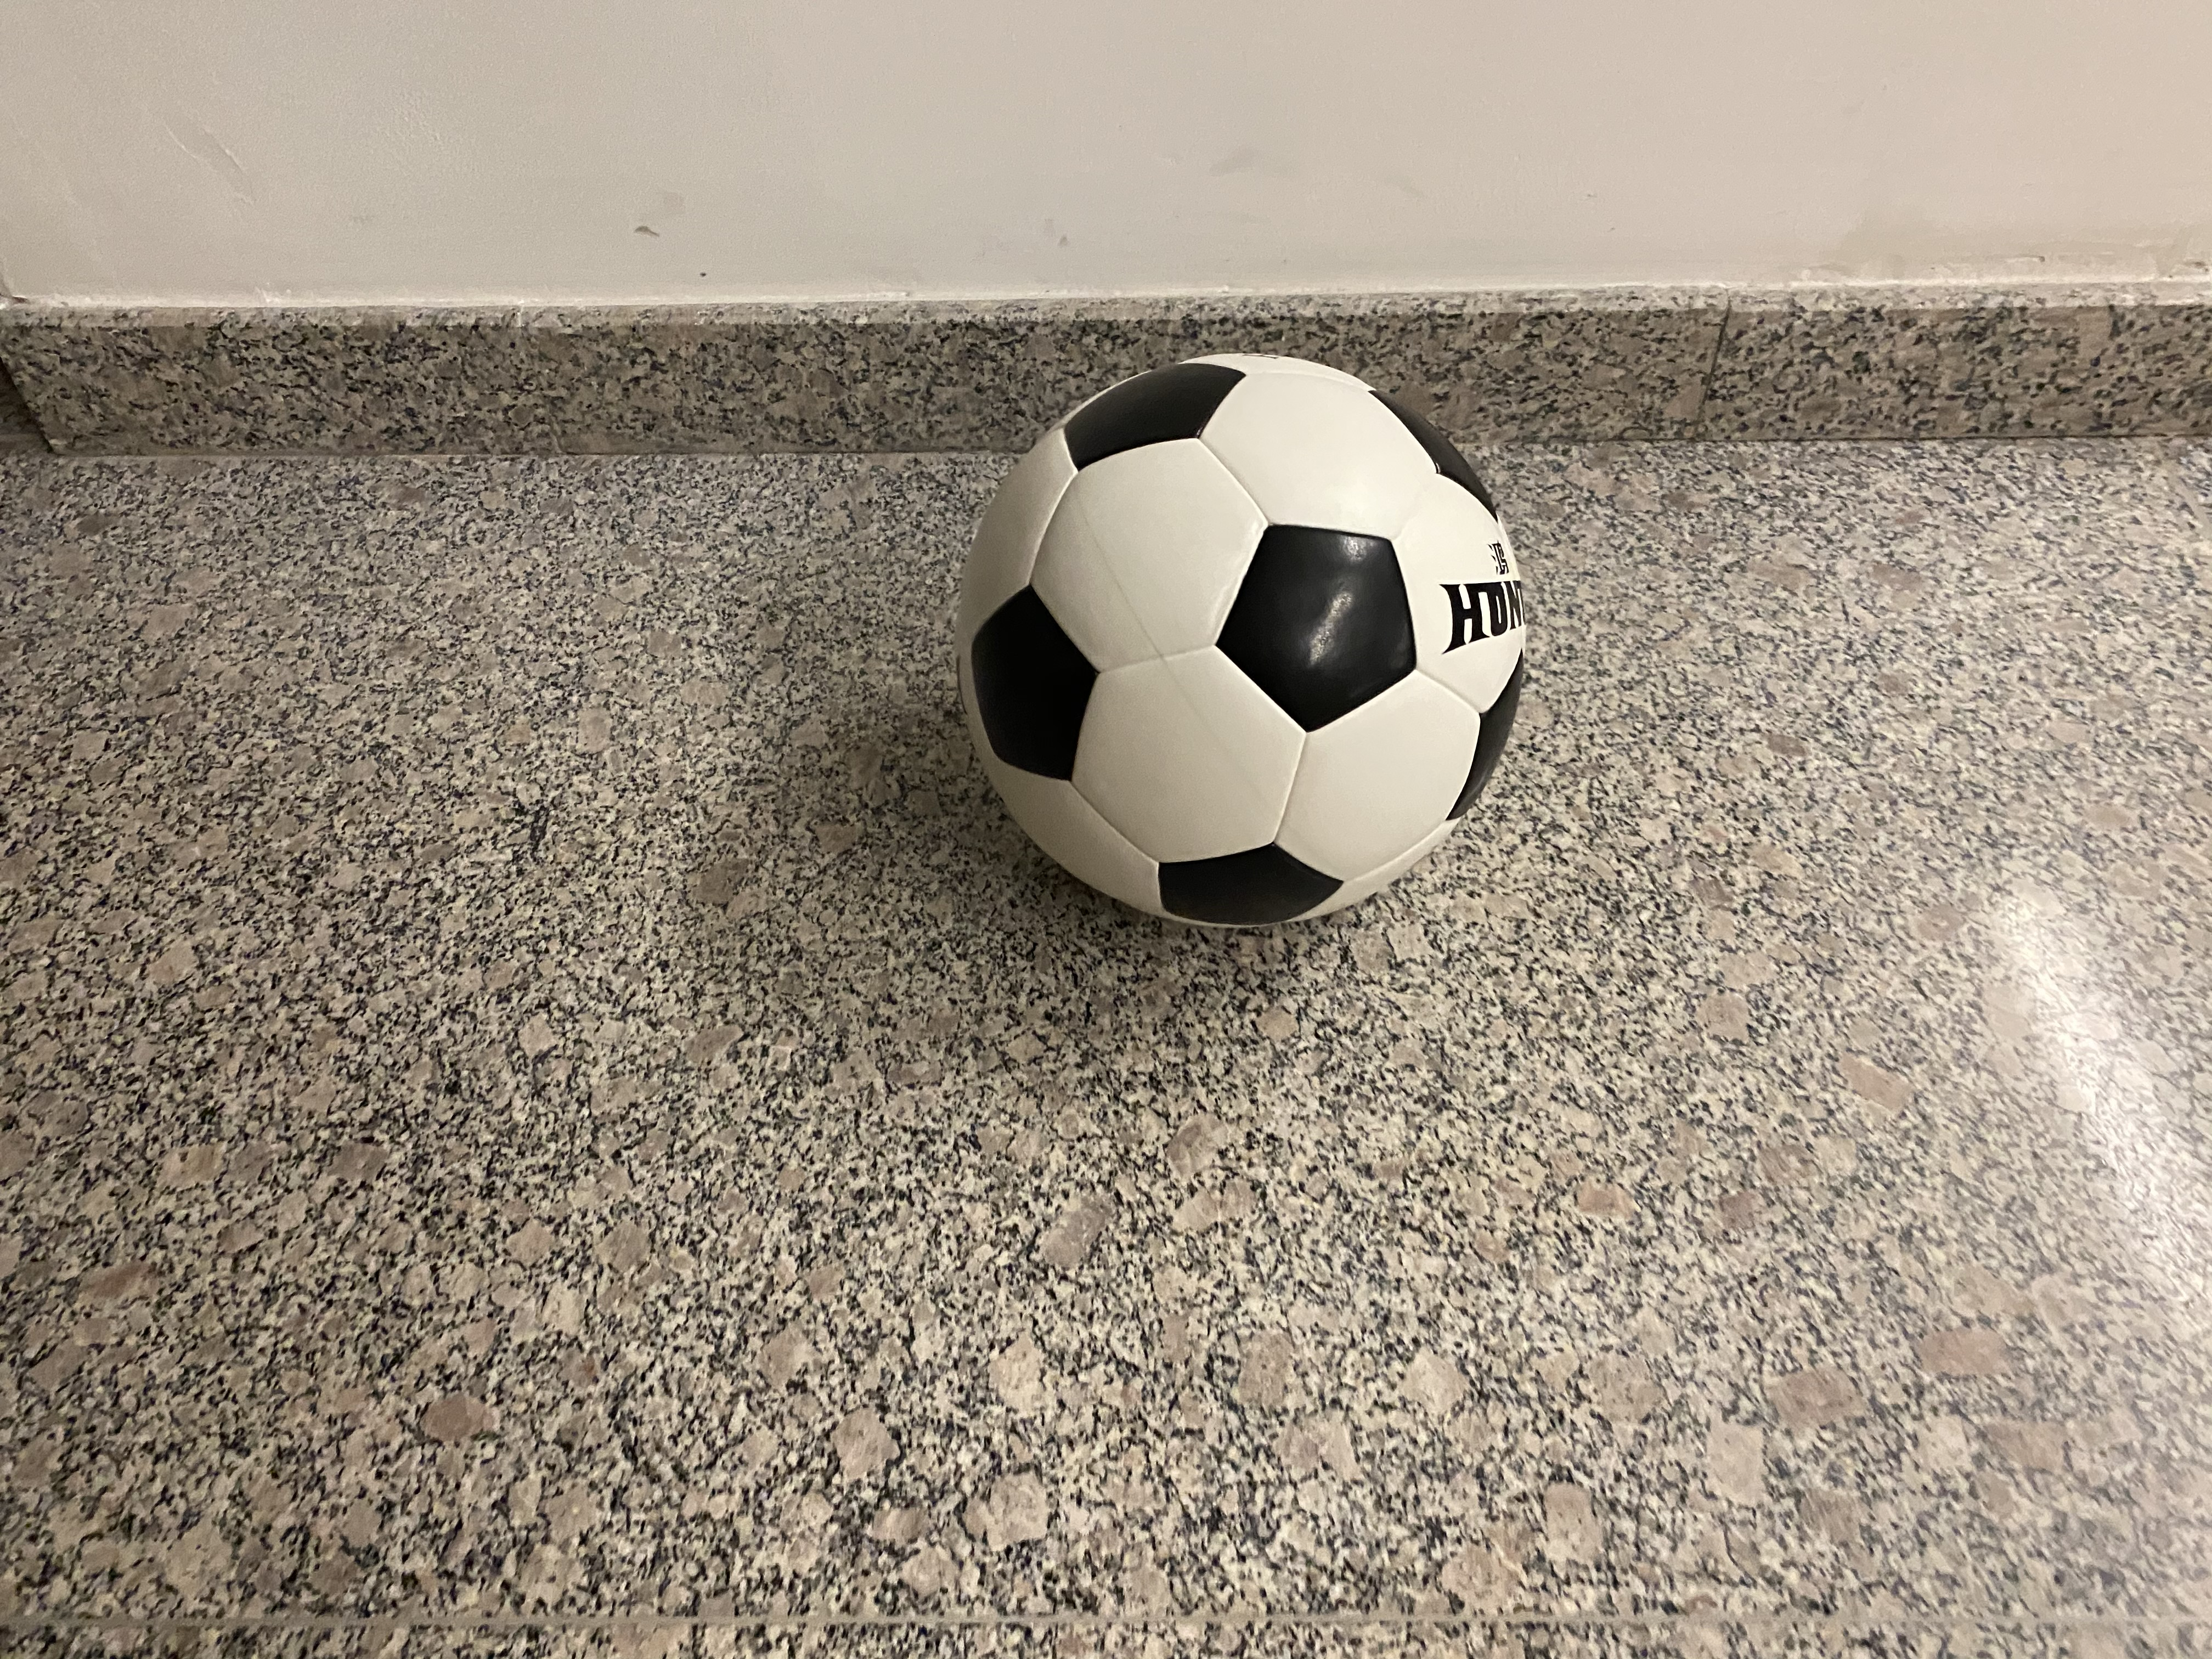football: (937, 336, 1541, 941)
